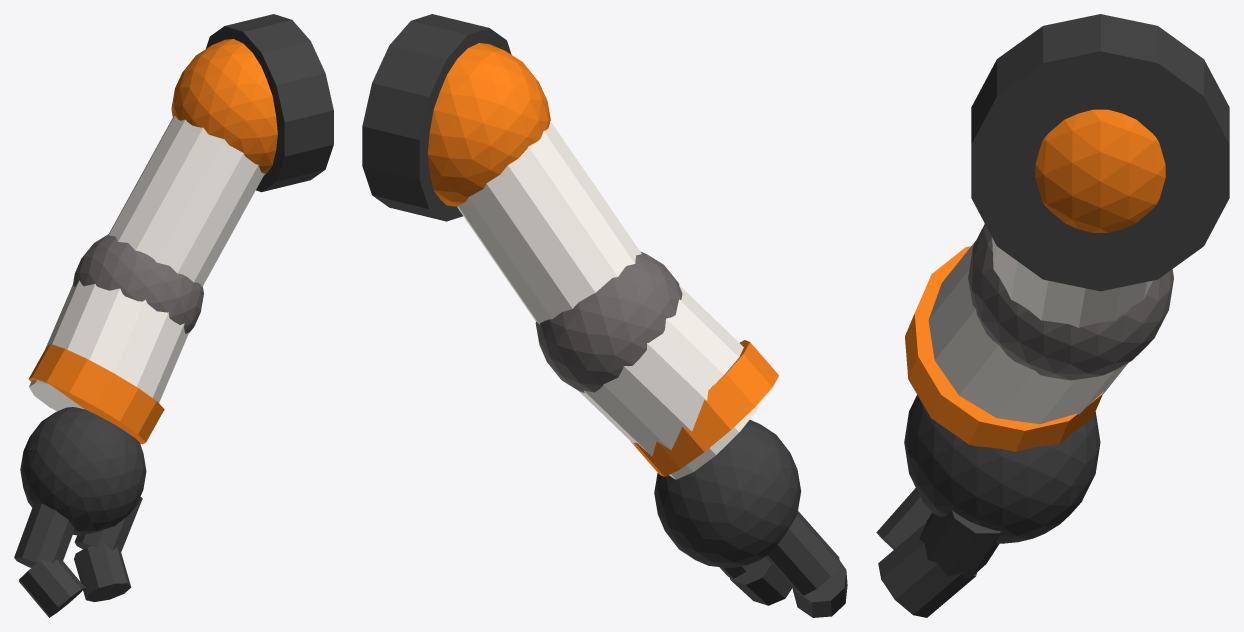
Rendered from robot_arm_l.obj.
The picture shows the model from 3 angles, left to right: view 1: azimuth 30°, elevation 25°; view 2: azimuth 150°, elevation 25°; view 3: azimuth 270°, elevation 25°; orthographic projection. The views are drawn at different scales.
Parts seen in each view (by area): view 1: dark, white, orange, grey; view 2: dark, white, orange, grey; view 3: dark, orange, white, grey.
Part boxes in pixels (bbox=[...]): dark: bbox=[14, 14, 333, 617]; white: bbox=[29, 116, 264, 411]; orange: bbox=[28, 39, 277, 444]; grey: bbox=[73, 234, 203, 333]; dark: bbox=[362, 14, 847, 617]; white: bbox=[457, 120, 765, 479]; orange: bbox=[427, 43, 778, 476]; grey: bbox=[535, 251, 682, 392]; dark: bbox=[876, 14, 1229, 617]; orange: bbox=[905, 109, 1165, 451]; white: bbox=[928, 237, 1152, 424]; grey: bbox=[968, 224, 1173, 380].
Size of the model in its own units: 0.6154 by 0.8426 by 0.3601.
